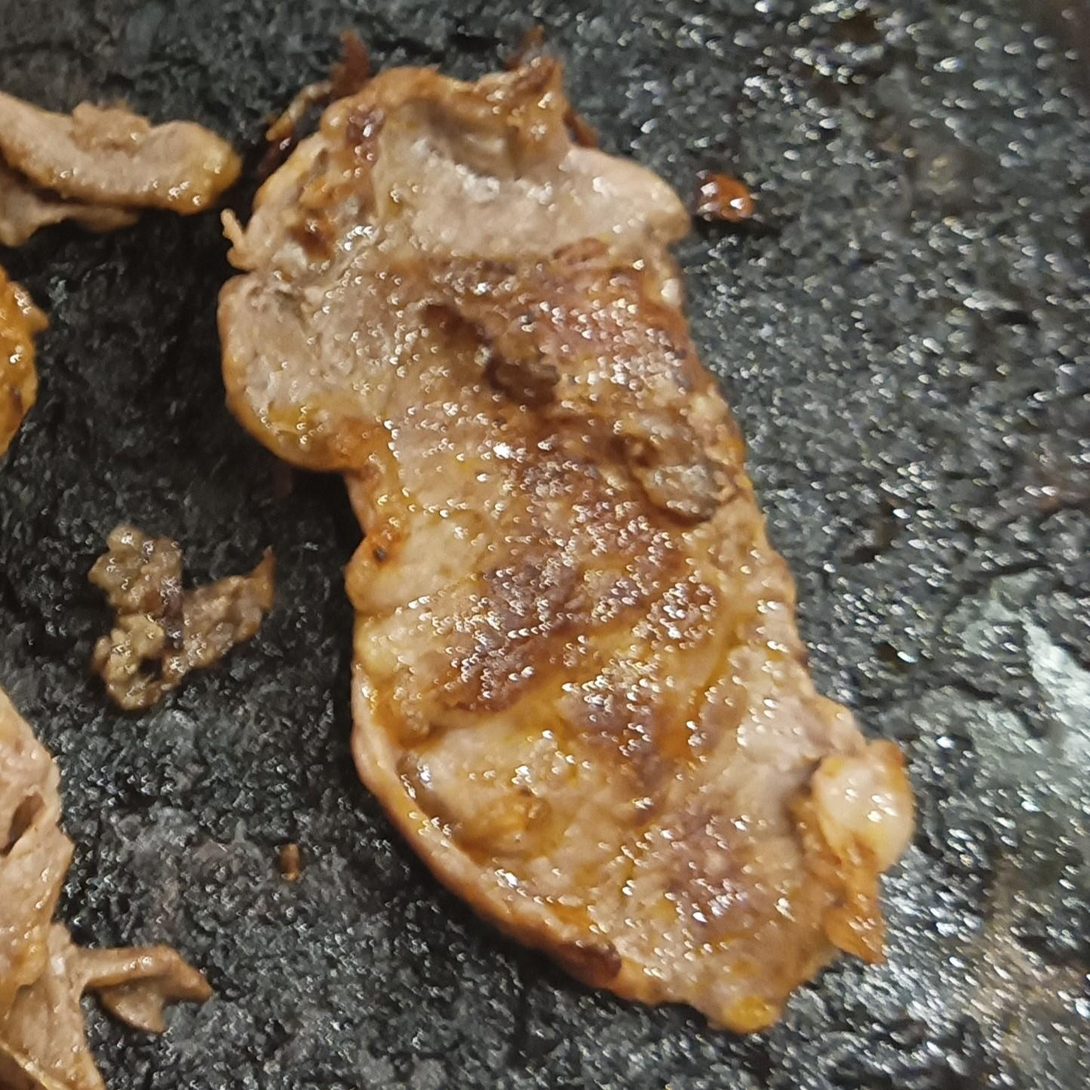Overcooked: (82, 529, 280, 721), (0, 90, 246, 220)
Well-Cooked: (214, 33, 917, 1038), (0, 687, 201, 1088)
